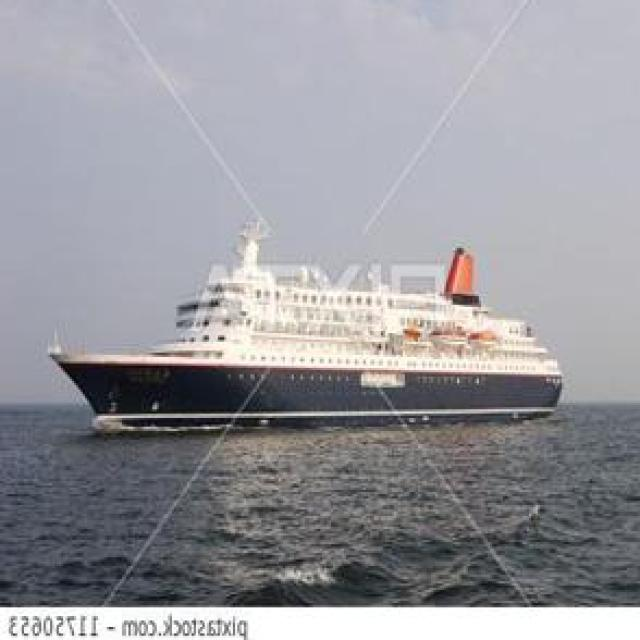passenger ship: (53, 247, 563, 426)
